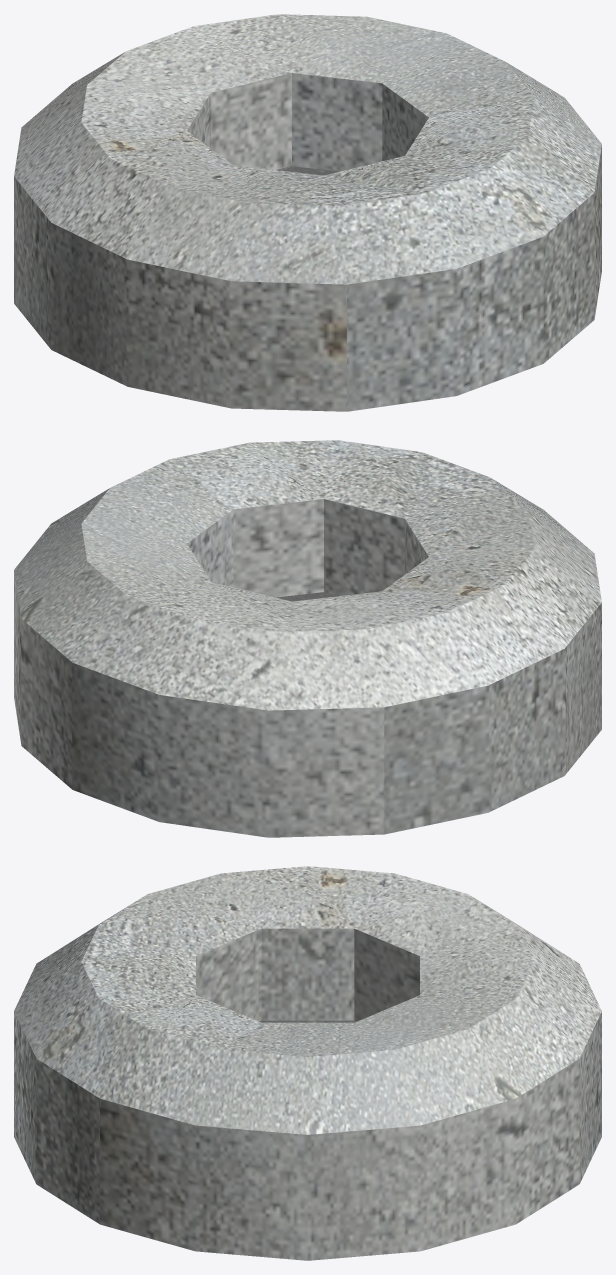
Rendered from F_Console_Screw_01.fbx.
3 views of the same model, one above another, from view 1: azimuth 30°, elevation 25°; view 2: azimuth 150°, elevation 25°; view 3: azimuth 270°, elevation 25° (orthographic).
Visible parts, largest first — view 1: F_Console_Screw_01; view 2: F_Console_Screw_01; view 3: F_Console_Screw_01.
Part boxes in pixels (x1,y1,x2,y2): F_Console_Screw_01: [14, 14, 601, 411]; F_Console_Screw_01: [14, 440, 601, 837]; F_Console_Screw_01: [14, 866, 601, 1260].
Bounding box in the file's own units: 6.48 × 2.14 × 6.5.
1 material, 1 textured.
